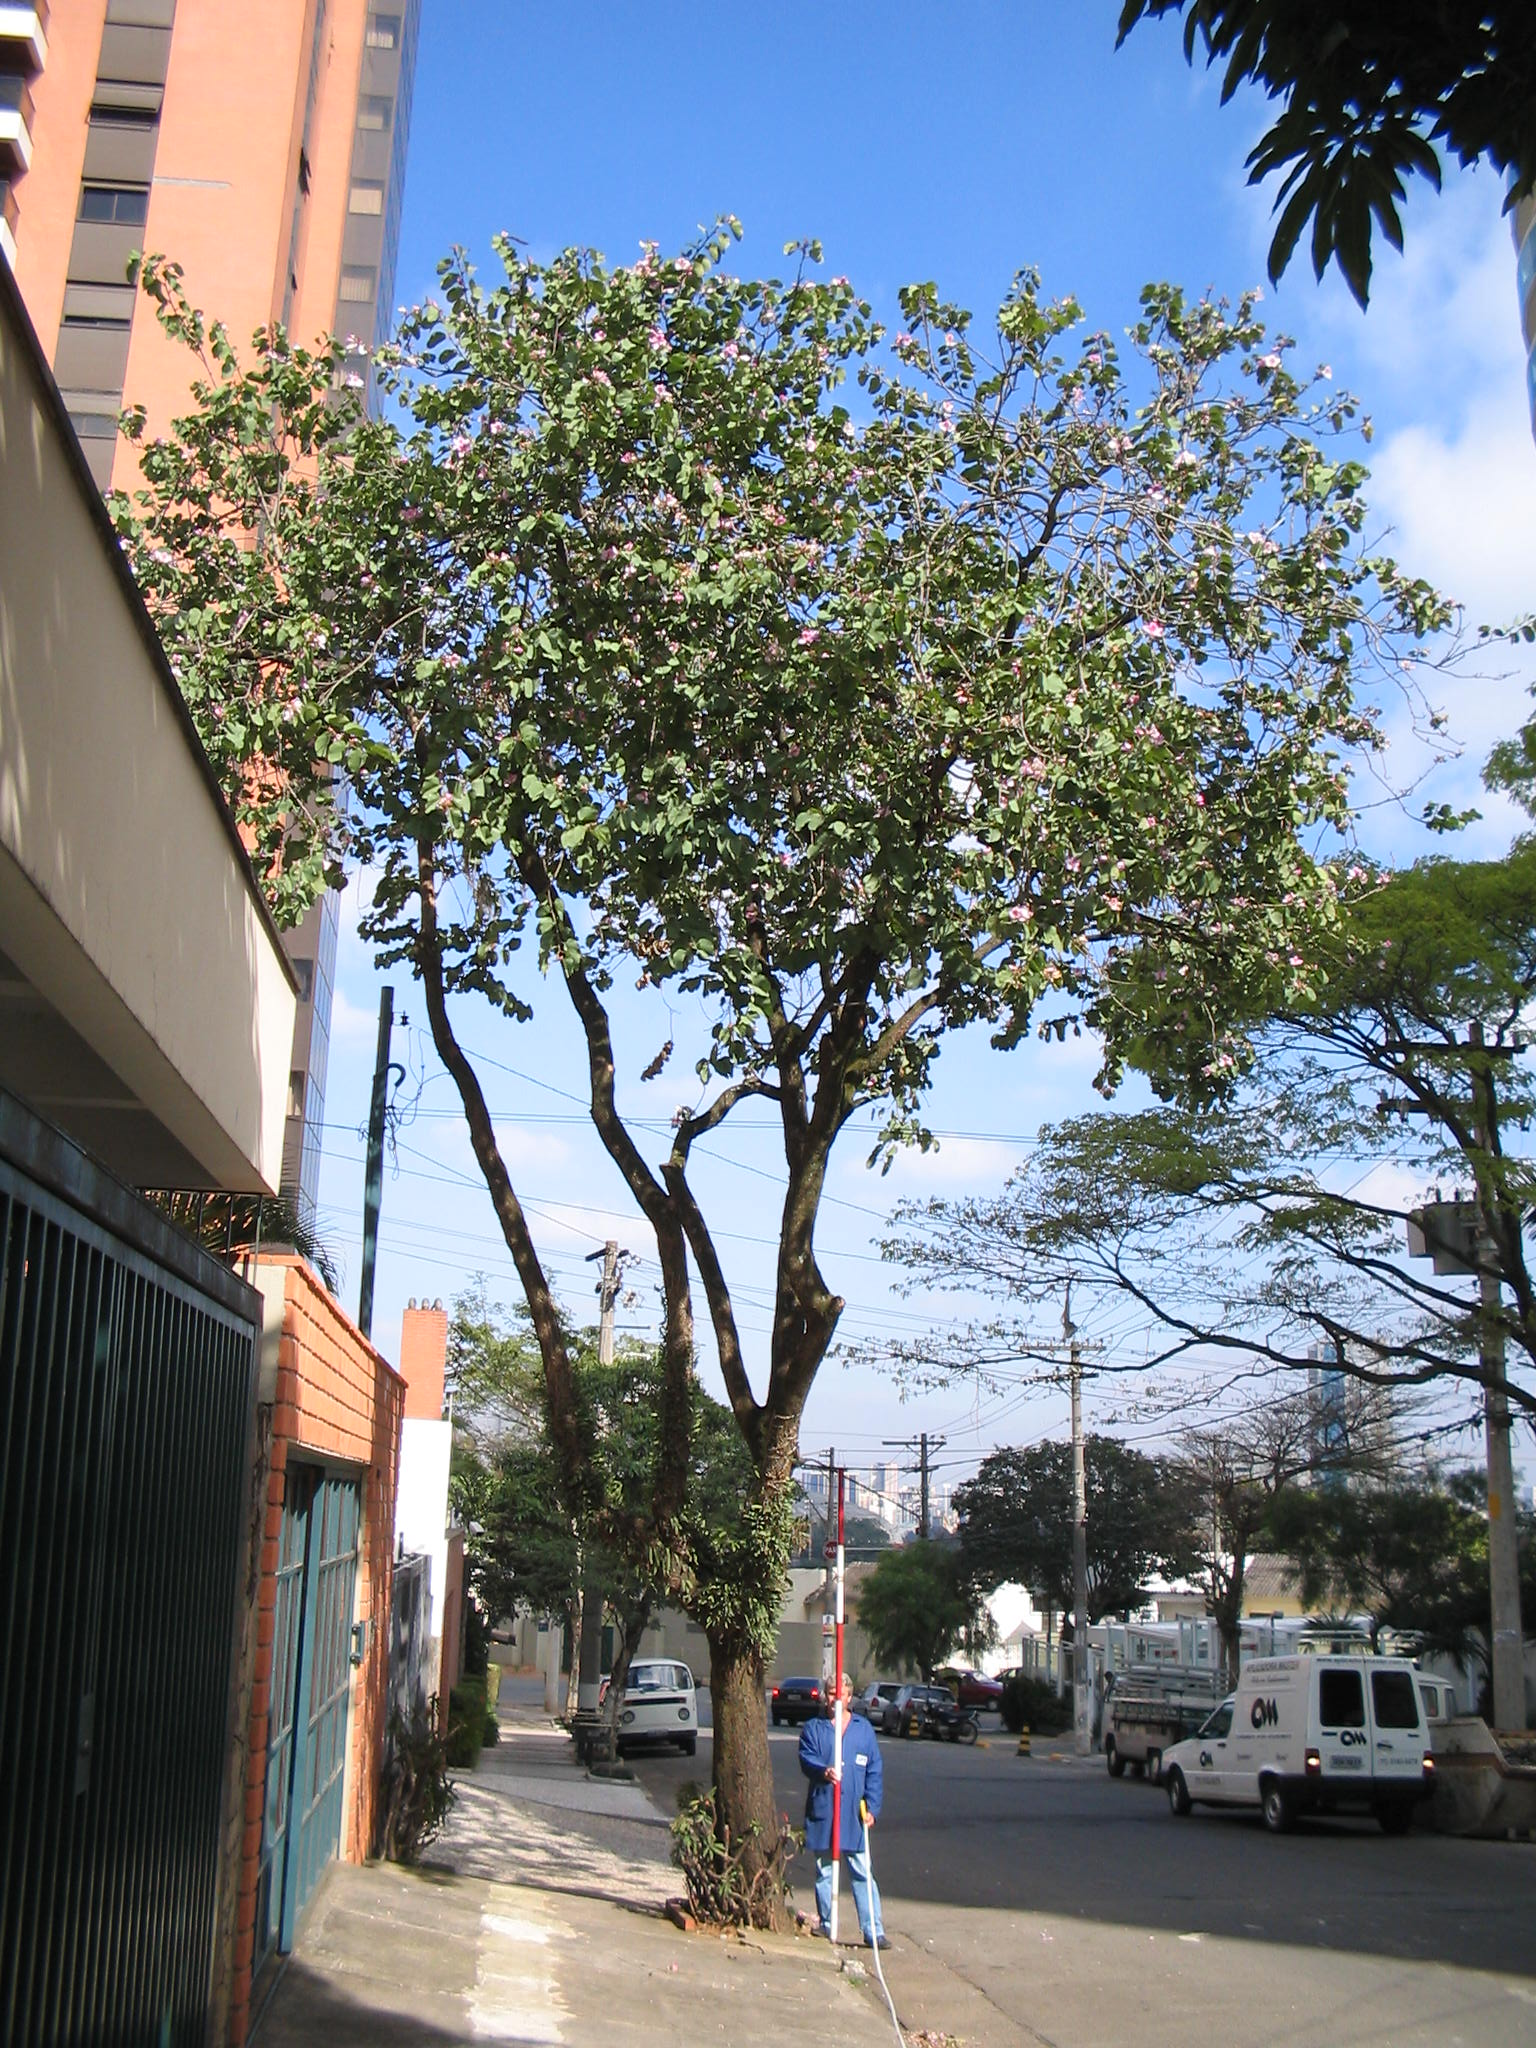crown: (115, 234, 1452, 1142)
stem: (665, 1574, 816, 1929)
stick: (803, 1474, 886, 1948)
tree: (110, 232, 1462, 1934)
